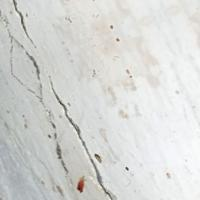crack: (3, 1, 132, 199)
